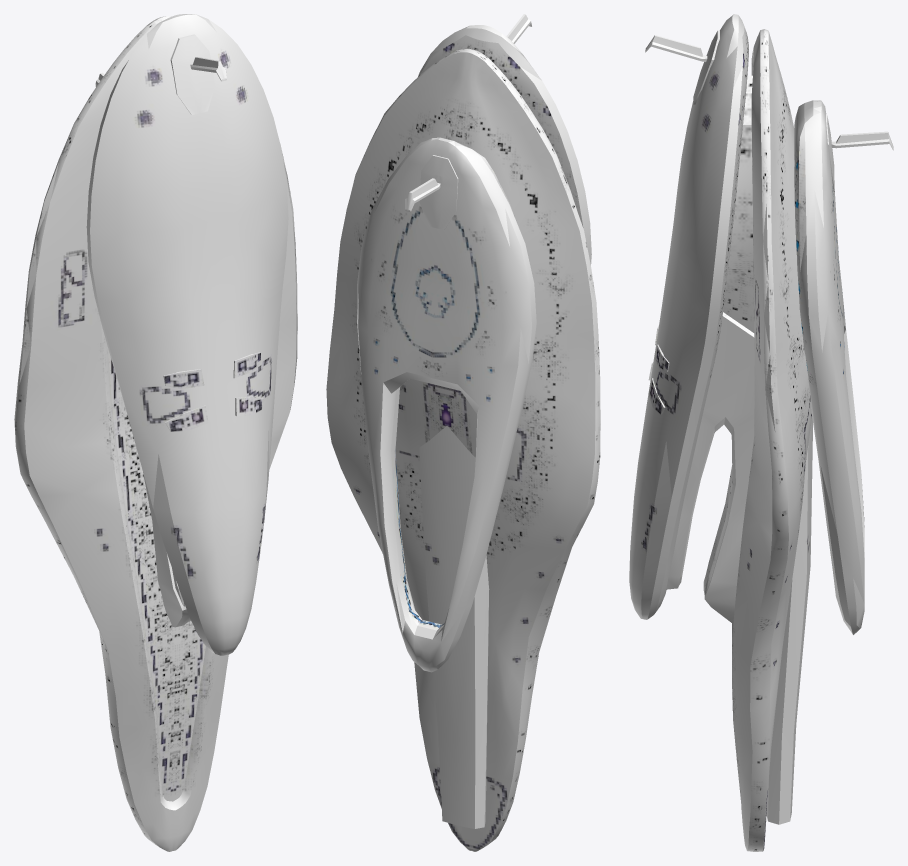
File: FRIGATE_COVDAV.obj
3 views of the same model, side by side, from view 1: azimuth 30°, elevation 25°; view 2: azimuth 150°, elevation 25°; view 3: azimuth 270°, elevation 25° (orthographic). The views are drawn at different scales.
Parts seen in each view (by area): view 1: Object; view 2: Object; view 3: Object.
Part boxes in pixels (x1,y1,x2,y2): Object: (14,14,297,851); Object: (326,14,600,851); Object: (629,14,893,851).
Bounding box in the file's own units: 32.74 × 93.3 × 26.88.
